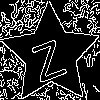Z: (25, 30, 68, 84)
